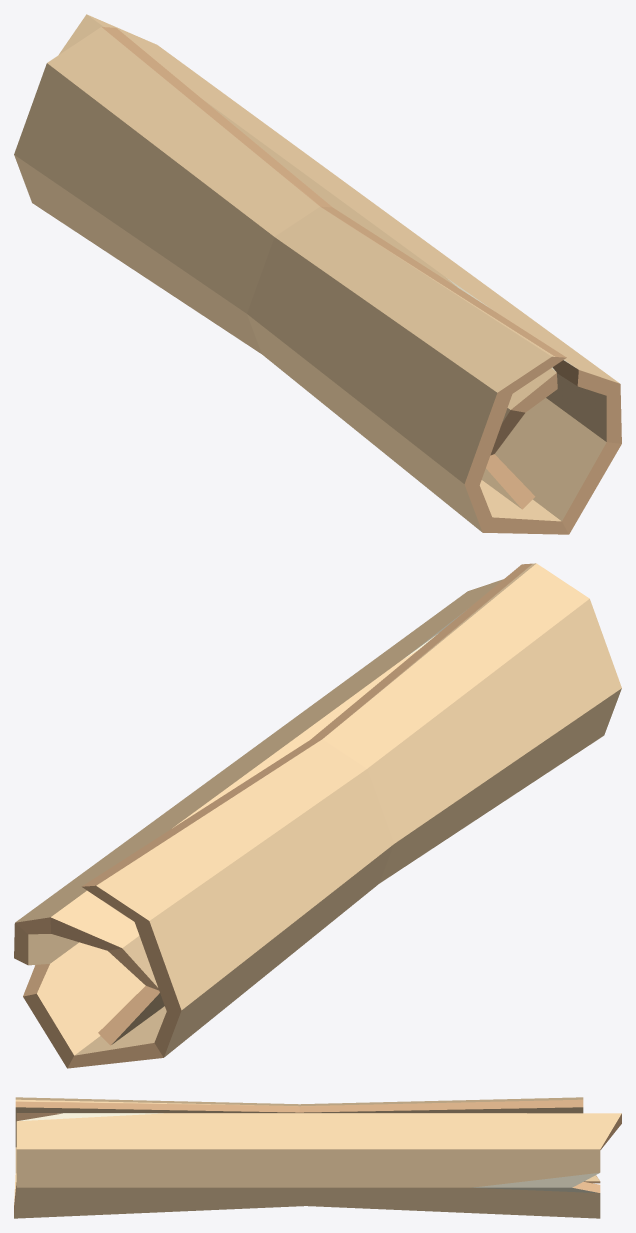
The model's file is Papyrus_01.glb.
3 renders of one model, top to bottom at view 1: azimuth 30°, elevation 25°; view 2: azimuth 150°, elevation 25°; view 3: azimuth 270°, elevation 25°, orthographic. The views are drawn at different scales.
Parts seen in each view (by area): view 1: Papyrus_01; view 2: Papyrus_01; view 3: Papyrus_01.
Boxes of the visible parts, box(x1,y1,x2,y2) form: Papyrus_01: box(14, 14, 621, 534); Papyrus_01: box(14, 563, 621, 1068); Papyrus_01: box(14, 1097, 621, 1218).
Bounding box in the file's own units: 0.1089 × 0.119 × 0.5748.
Materials: 1 (1 with a texture image).
